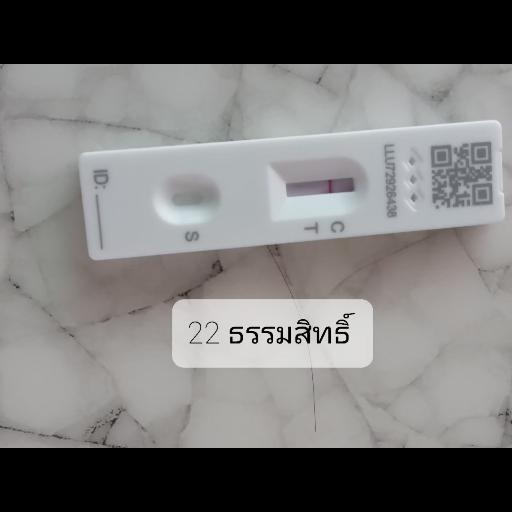Neg: (78, 120, 505, 260)
